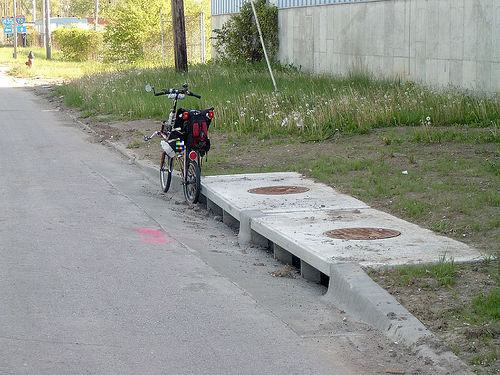car: (142, 83, 218, 207)
